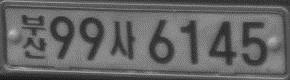1: (177, 19, 206, 64)
4: (207, 20, 235, 65)
5: (241, 21, 267, 66)
6: (148, 18, 174, 64)
9: (79, 16, 106, 61), (49, 14, 75, 59)
부산_V: (20, 14, 47, 59)
사: (110, 21, 136, 60)
